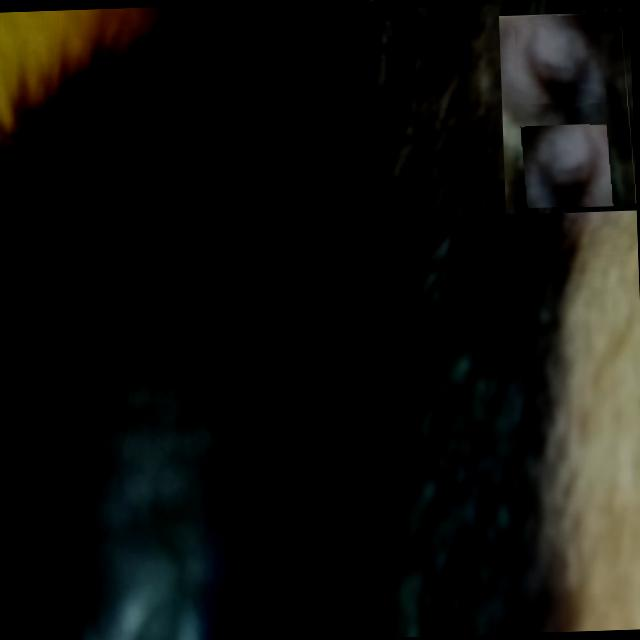mae: (497, 13, 636, 213)
mal: (523, 123, 611, 206)
